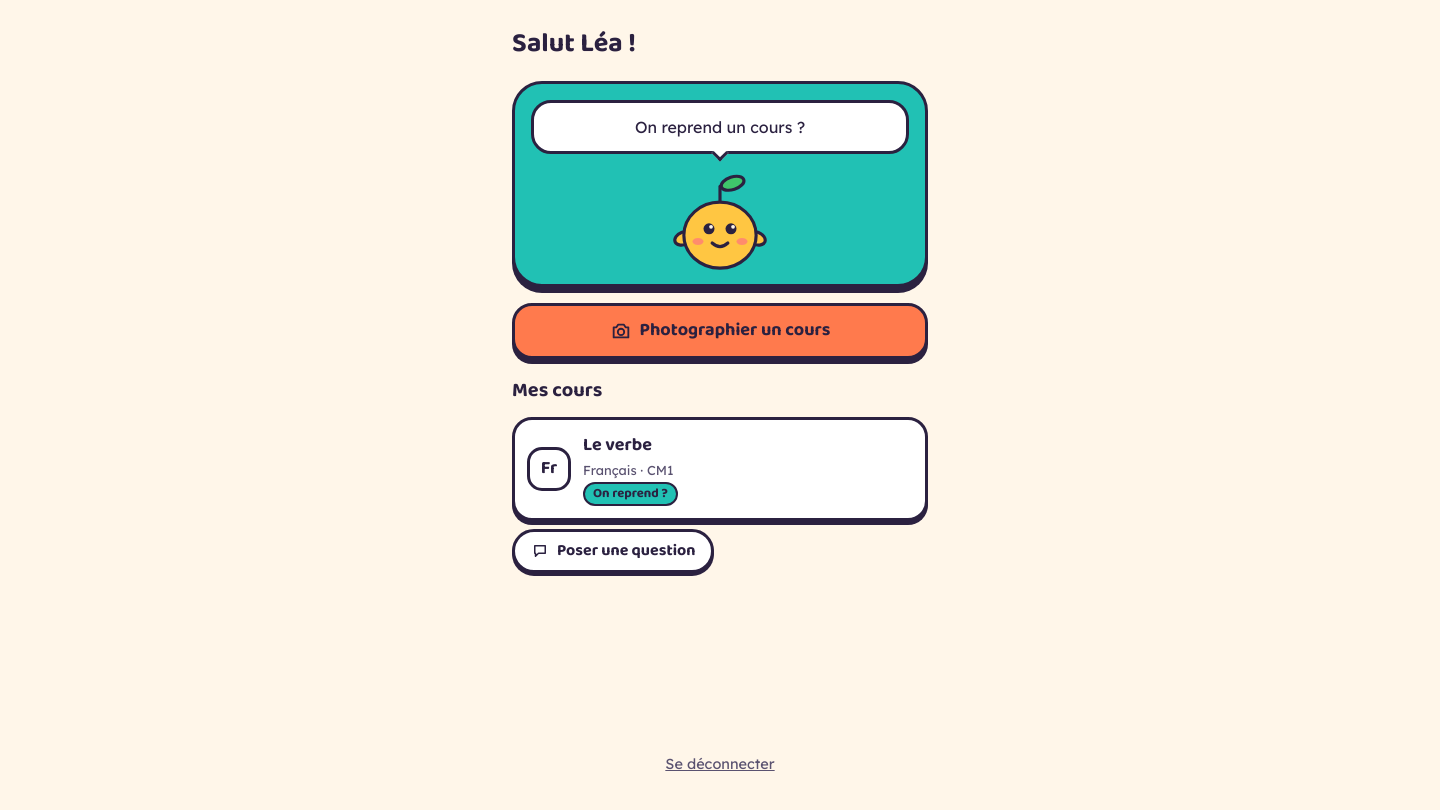
Test: MainScreens: a course card opens the reader › a tap on « Le verbe » opens its text; « Accueil » comes back to the list
The image size is (1440, 810).
Click the button "Fr Le verbe Français · CM1 On reprend ?" at (549,468), box [512,416,928,520]
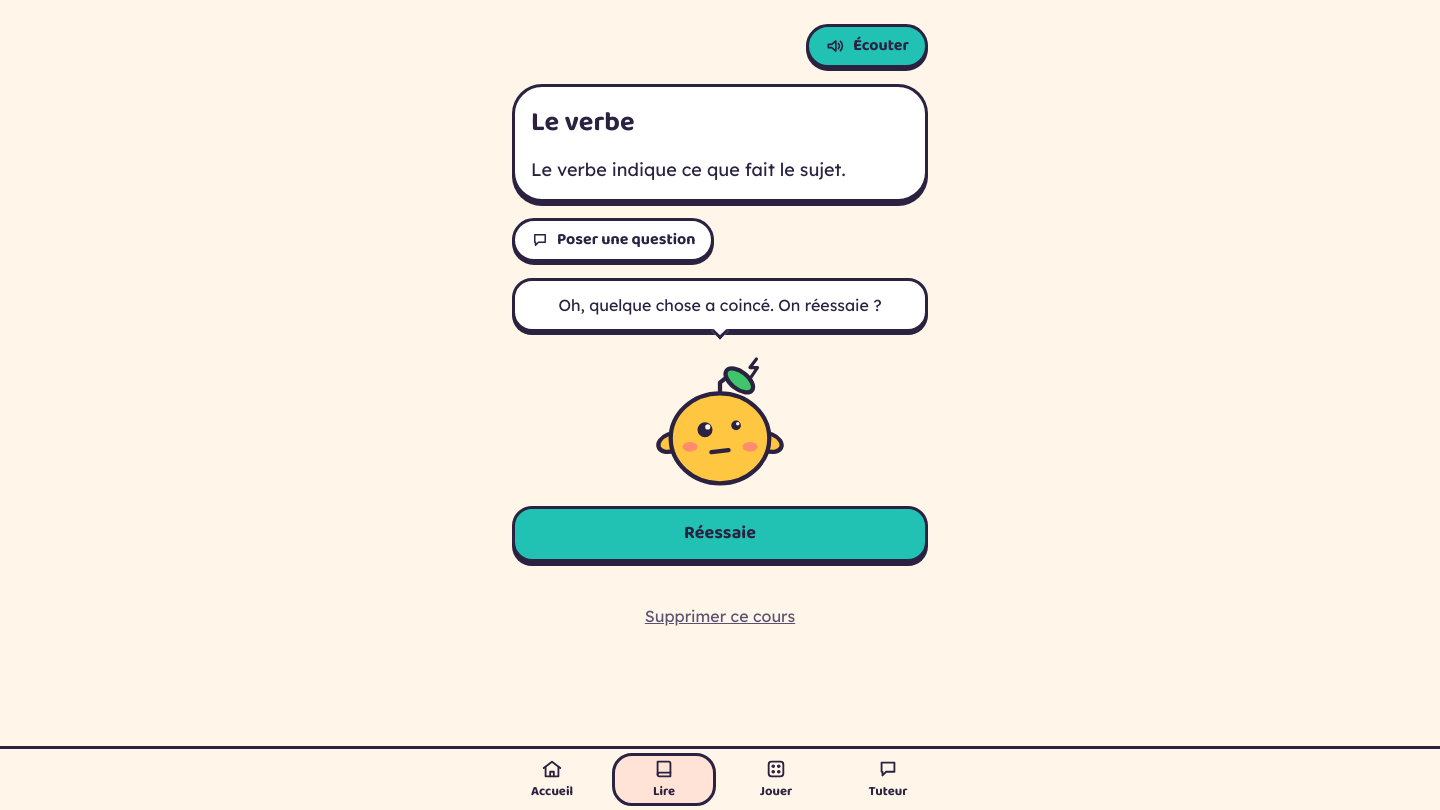
Result: the text "Le verbe indique ce que fait le sujet." is shown at [531,158,846,180]
Click the button "Accueil" at (552,779), box [496,748,608,809]
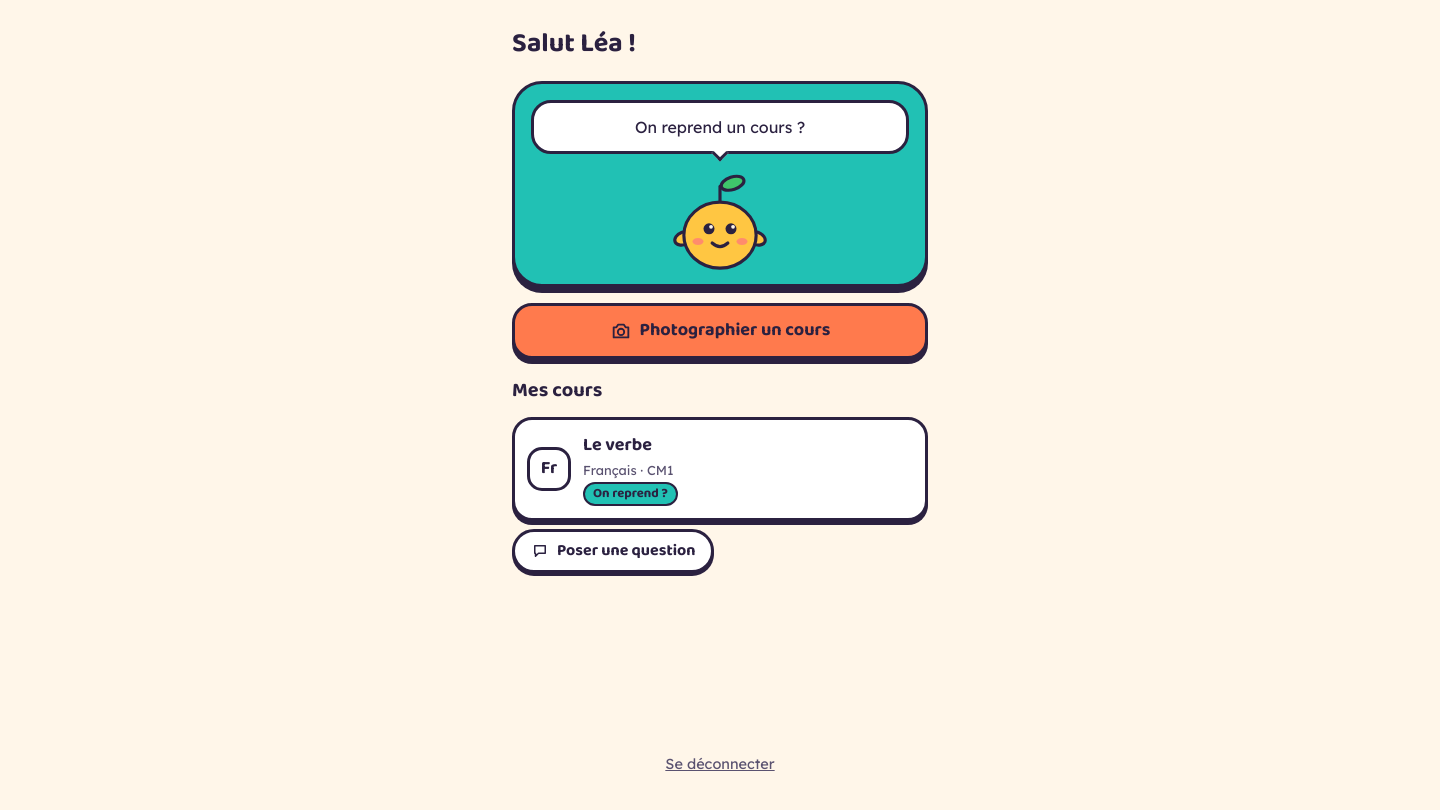
Result: the heading "Mes cours" is shown at [512,374,602,406]
